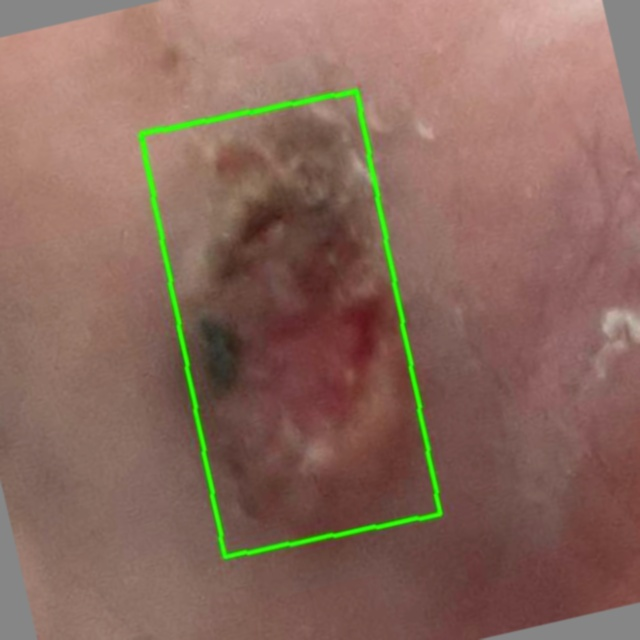Eczema: (141, 91, 441, 557)
